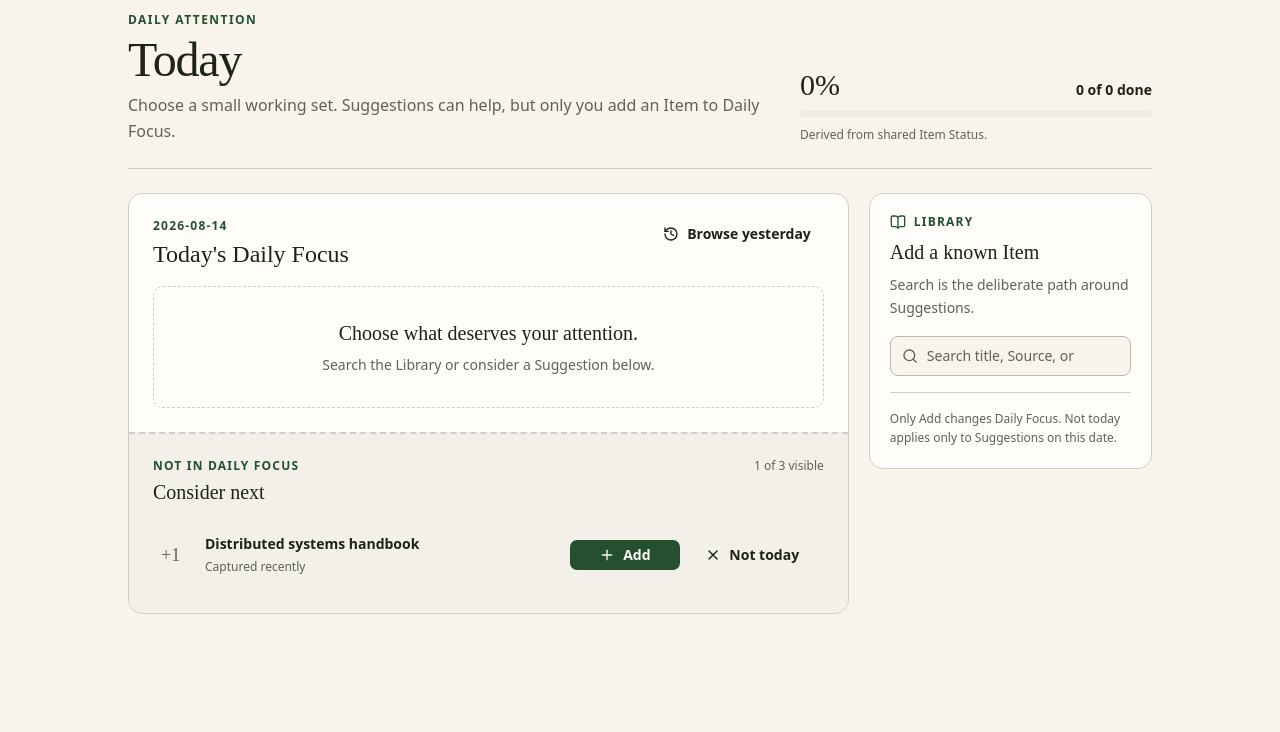
Test: Today room › keeps a stale search response from overwriting a replenished window
Type "distributed" into the search field named "Find an Item" at point(1010, 356), box [890,336,1131,376]
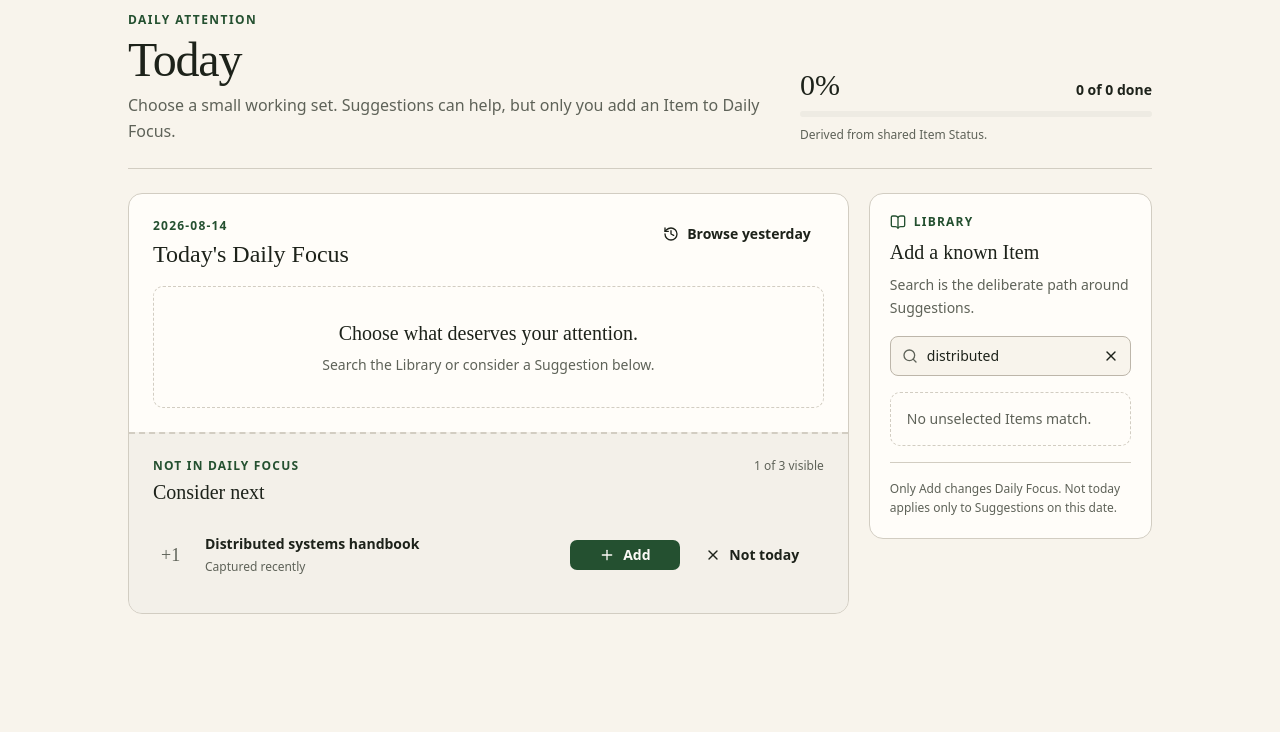
Click the button "Not today" at point(752, 555), box [689,539,816,571]
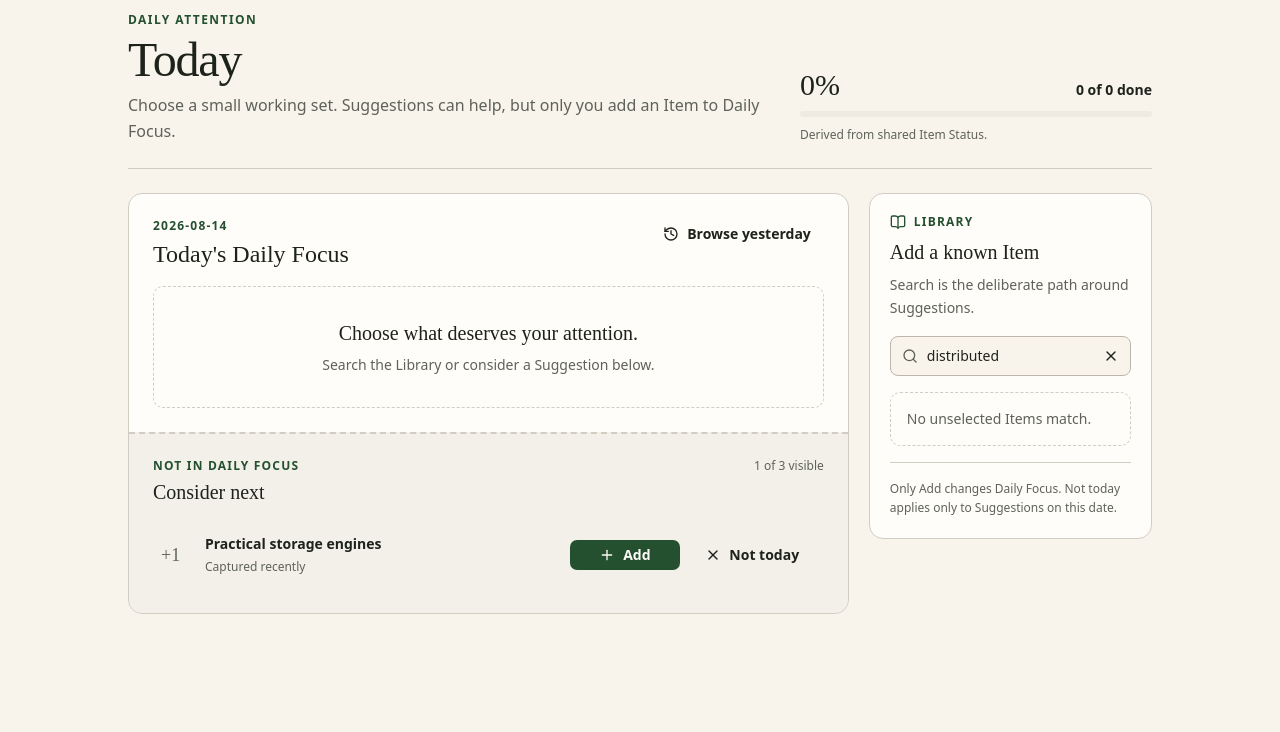
expect the link "Practical storage engines" is shown: met, box [205,534,382,553]
